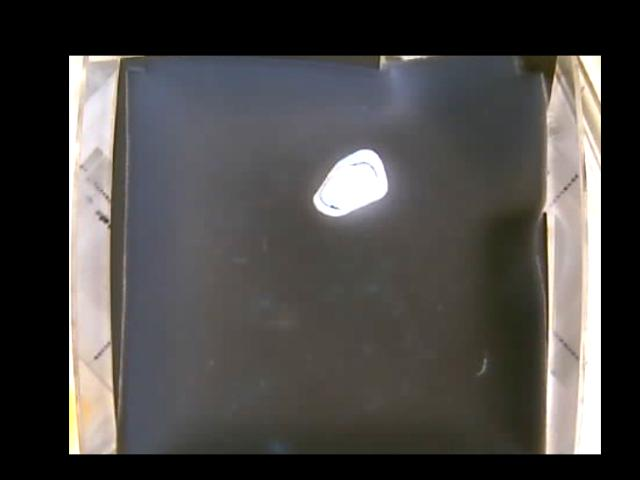Pebble: (312, 148, 389, 216)
